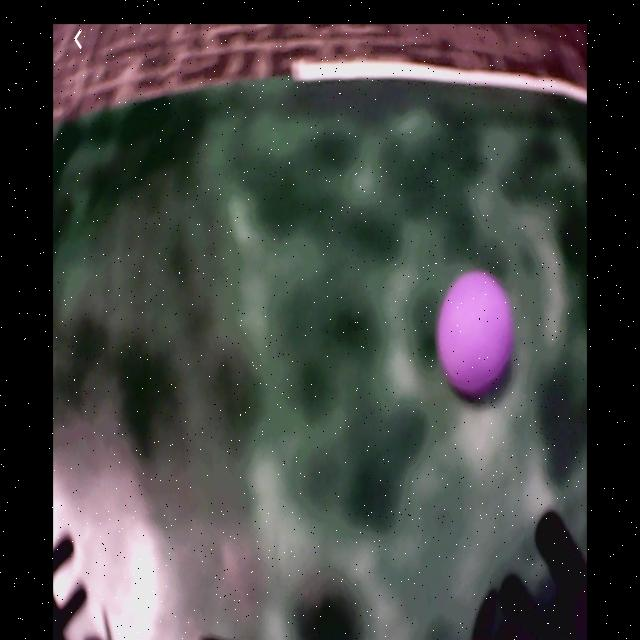ball: (441, 271, 514, 398)
